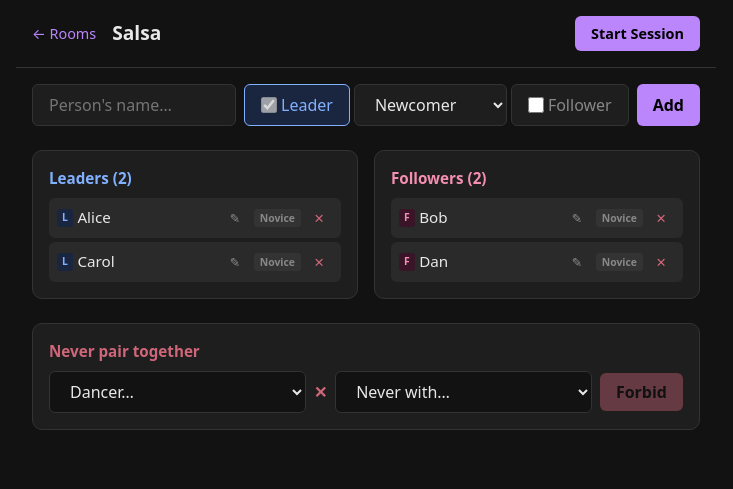
Test: Never pair together › forbids a pair and lists it
The image size is (733, 489).
expect the button "Forbid" is disabled: met, box [600,373,683,411]
Select "Alice" in the dropdown named "Dancer" at [177, 392], box [49,371,306,413]
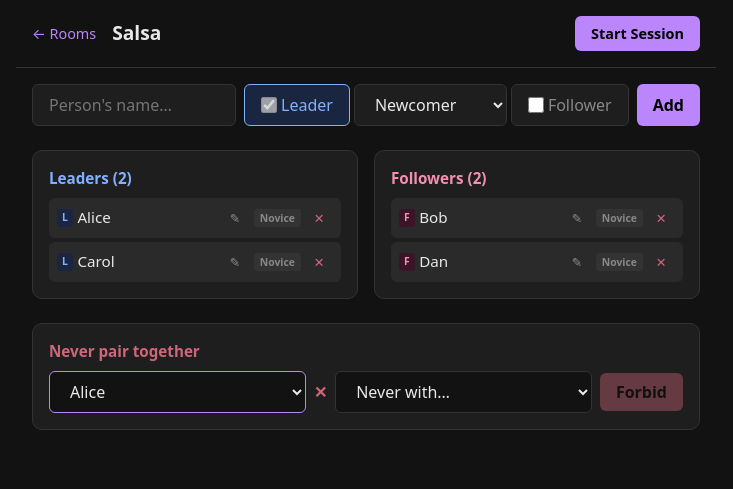
expect the button "Forbid" is disabled: met, box [600,373,683,411]
Select "Bob" in the dropdown named "Never with" at [464, 392], box [335,371,592,413]
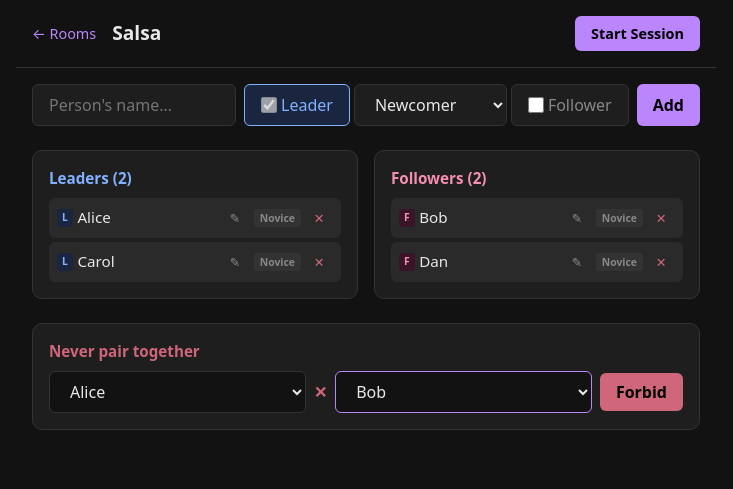
Click the button "Forbid".
click(641, 392)  # box [600,373,683,411]
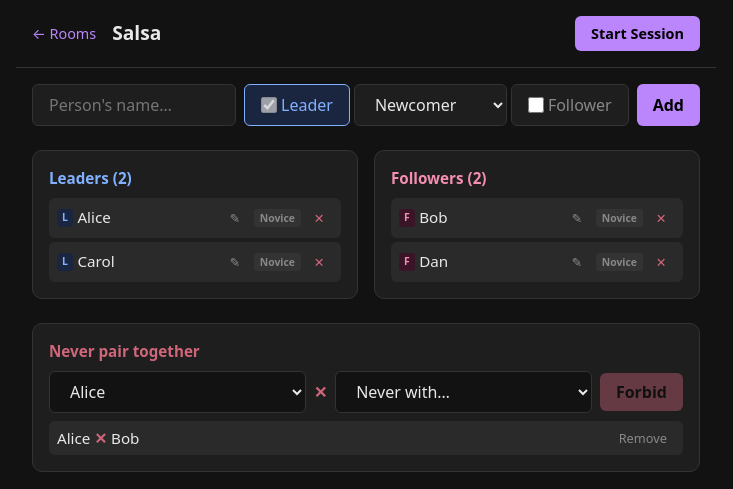
expect the button with aria-label "Allow Alice and Bob to dance together" is shown: met, box [611,427,675,449]
